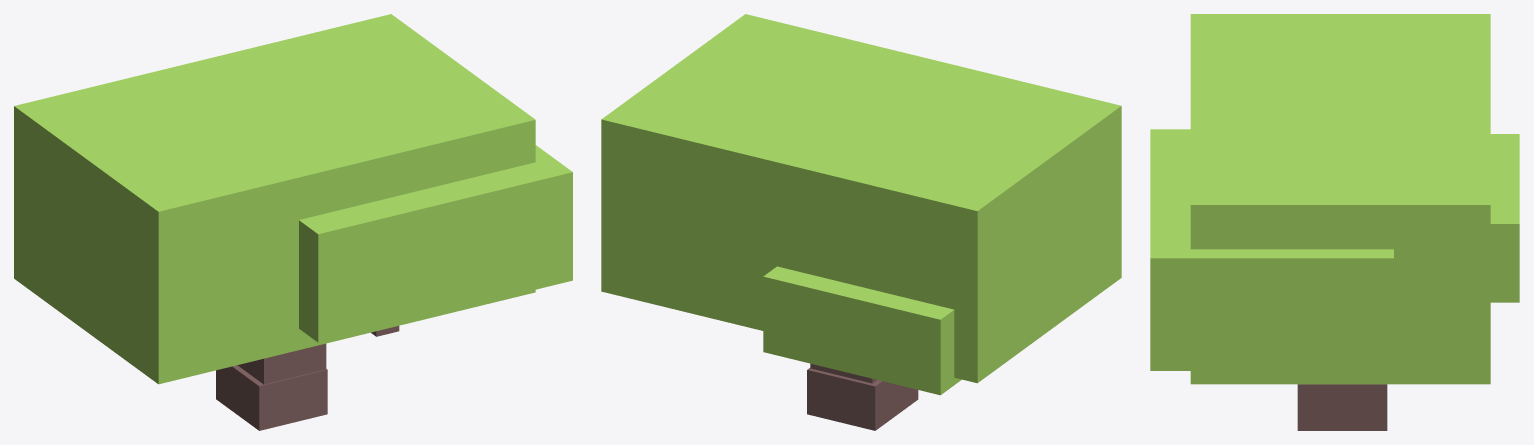
Rendered from Bush.glb.
3 views of the same model, side by side, from view 1: azimuth 30°, elevation 25°; view 2: azimuth 150°, elevation 25°; view 3: azimuth 270°, elevation 25° (orthographic). The views are drawn at different scales.
Visible parts, largest first — view 1: Bushel, Trunk; view 2: Bushel, Trunk; view 3: Bushel, Trunk.
Part boxes in pixels (left/top/right/bottom): Bushel: left=14, top=14, right=572, bottom=384; Trunk: left=216, top=326, right=399, bottom=430; Bushel: left=601, top=14, right=1121, bottom=395; Trunk: left=807, top=363, right=918, bottom=430; Bushel: left=1150, top=14, right=1519, bottom=384; Trunk: left=1297, top=384, right=1387, bottom=430.
Bounding box in the file's own units: 1.21 × 0.8577 × 0.9405.
